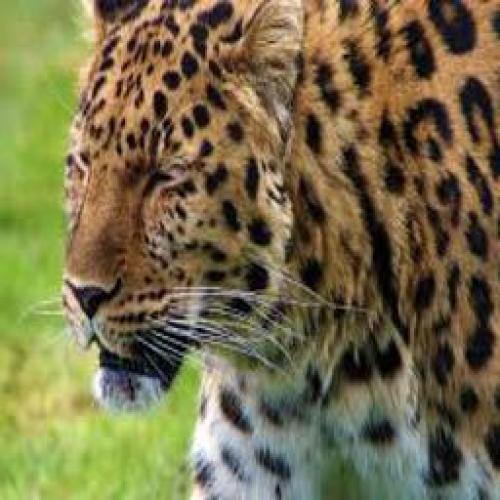amur_leopard-endangered: (57, 1, 485, 424)
